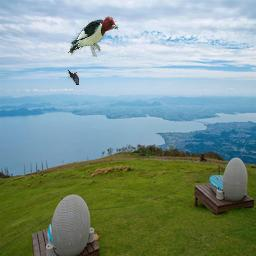Crow: (67, 69, 79, 85)
Woodpecker: (65, 13, 119, 57)
